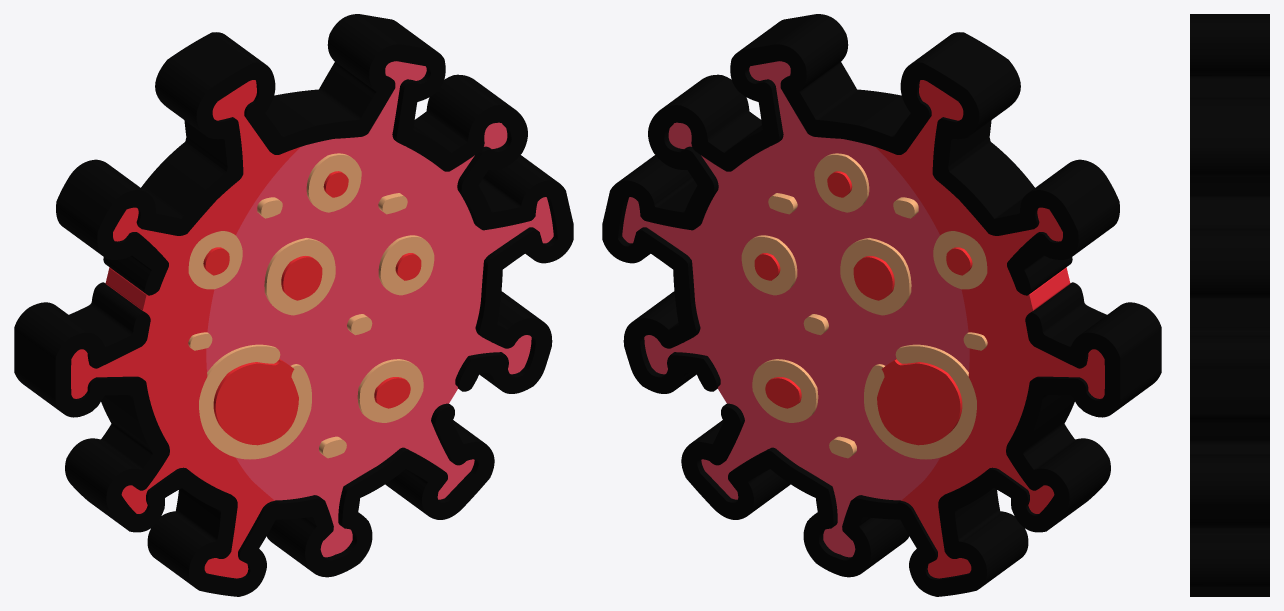
File: sick.fbx
3 views of the same model, side by side, from view 1: azimuth 30°, elevation 25°; view 2: azimuth 150°, elevation 25°; view 3: azimuth 270°, elevation 25° (orthographic). The views are drawn at different scales.
Parts seen in each view (by area): view 1: @突发恶疾.001; view 2: @突发恶疾.001; view 3: @突发恶疾.001.
Boxes of the visible parts, box(x1,y1,x2,y2) form: @突发恶疾.001: box(14, 14, 573, 596); @突发恶疾.001: box(602, 14, 1161, 596); @突发恶疾.001: box(1190, 14, 1269, 596).
Size of the model in its own units: 72.7 by 71.55 by 10.06.
